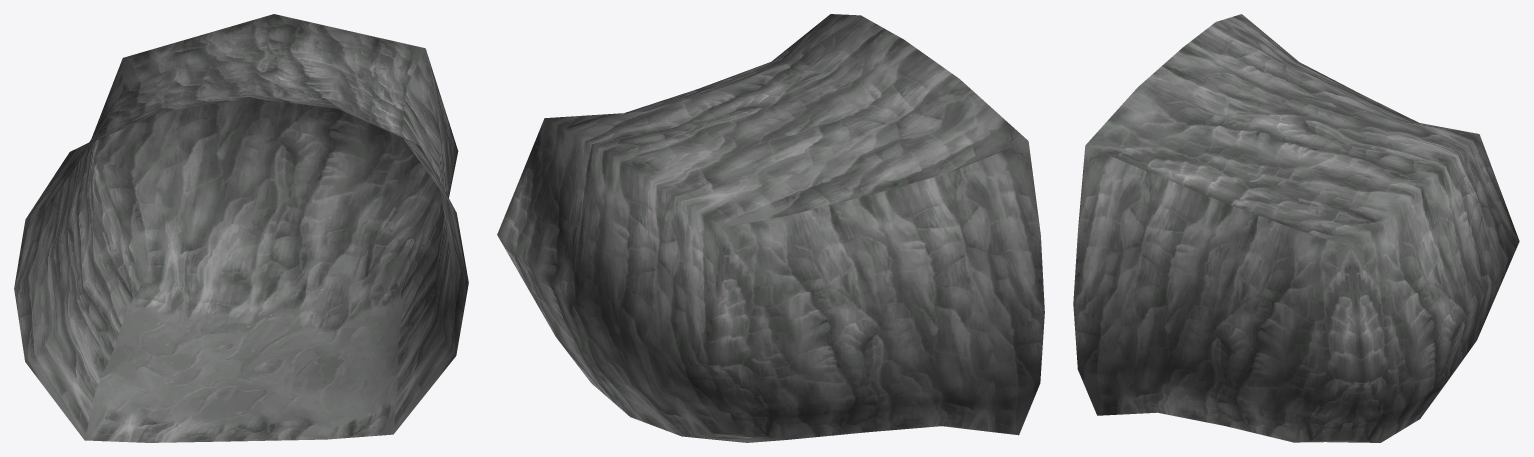
The model's file is SWORDLIGHT20_PS-AREA04_06.fbx.
The picture shows the model from 3 angles, left to right: view 1: azimuth 30°, elevation 25°; view 2: azimuth 150°, elevation 25°; view 3: azimuth 270°, elevation 25°; orthographic projection. The views are drawn at different scales.
Parts seen in each view (by area): view 1: SWORDLIGHT20_PS-AREA04_06; view 2: SWORDLIGHT20_PS-AREA04_06; view 3: SWORDLIGHT20_PS-AREA04_06.
Boxes of the visible parts, bbox=[...] form: SWORDLIGHT20_PS-AREA04_06: bbox=[14, 14, 468, 442]; SWORDLIGHT20_PS-AREA04_06: bbox=[497, 14, 1044, 442]; SWORDLIGHT20_PS-AREA04_06: bbox=[1073, 14, 1519, 442].
Size of the model in its own units: 77165 by 50140 by 62735.
2 materials, 2 textured.
